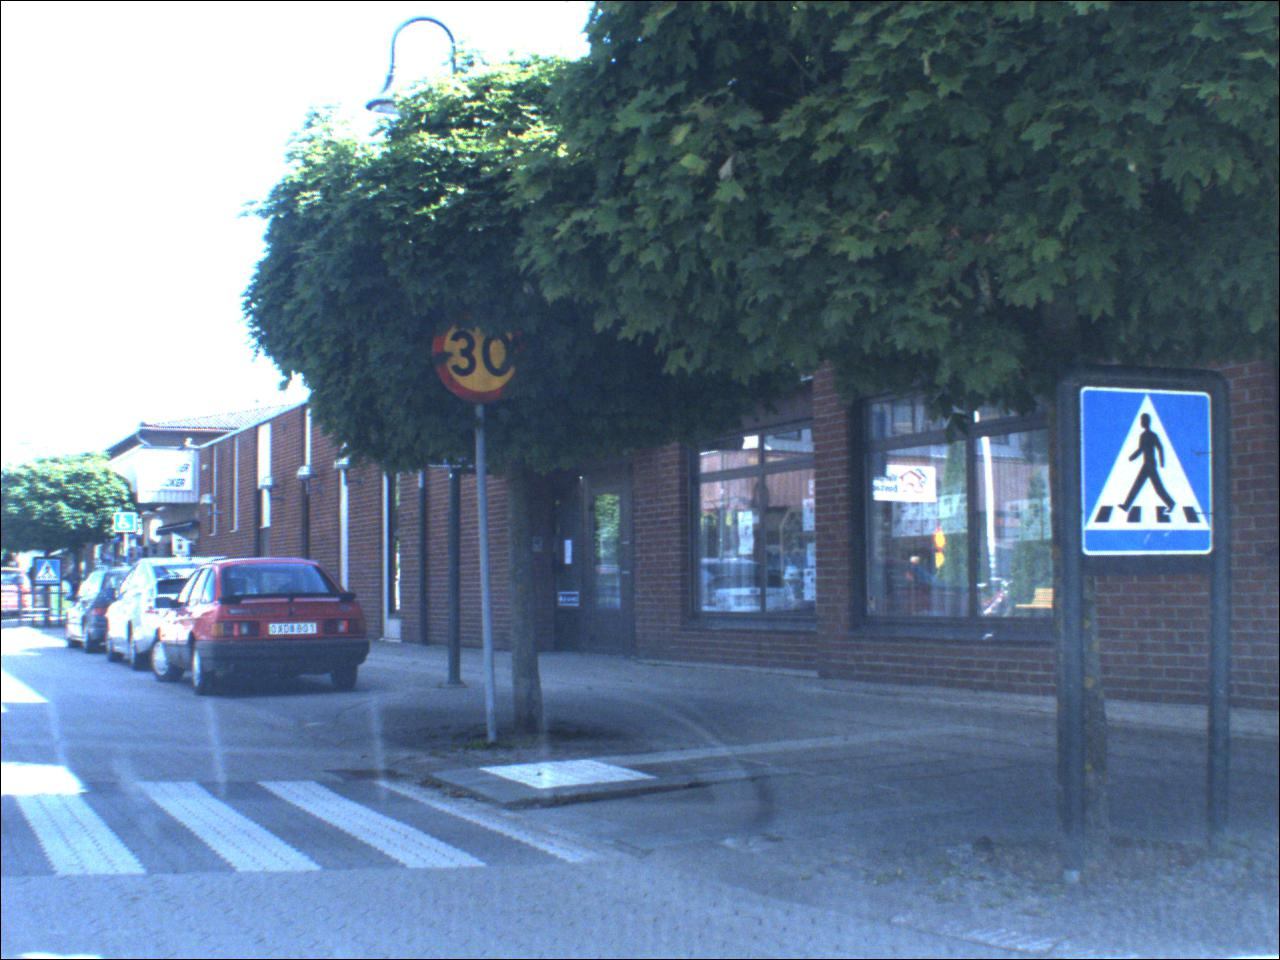30_SIGN: (431, 299, 541, 406)
PEDESTRIAN_CROSSING: (1079, 388, 1218, 556), (37, 560, 63, 587)
